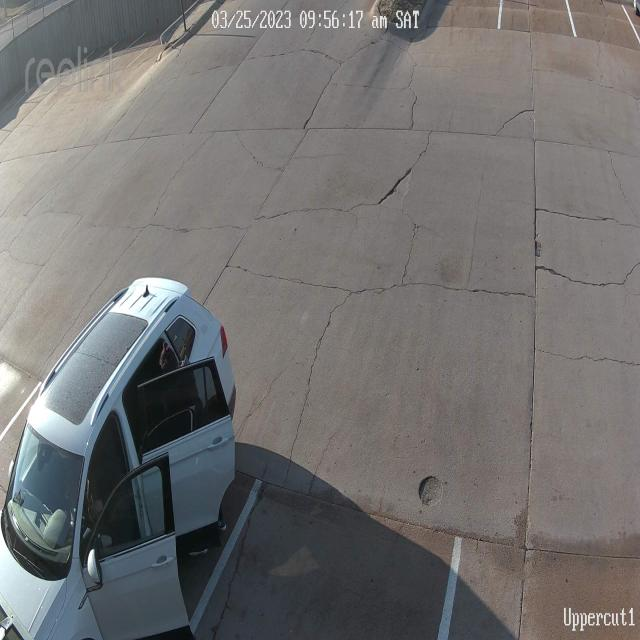Empty-slot: (185, 433, 476, 640), (445, 424, 640, 640), (0, 260, 111, 436), (568, 0, 640, 91), (495, 0, 578, 67), (404, 0, 502, 51)
Slot-Occupied: (0, 279, 255, 640)
